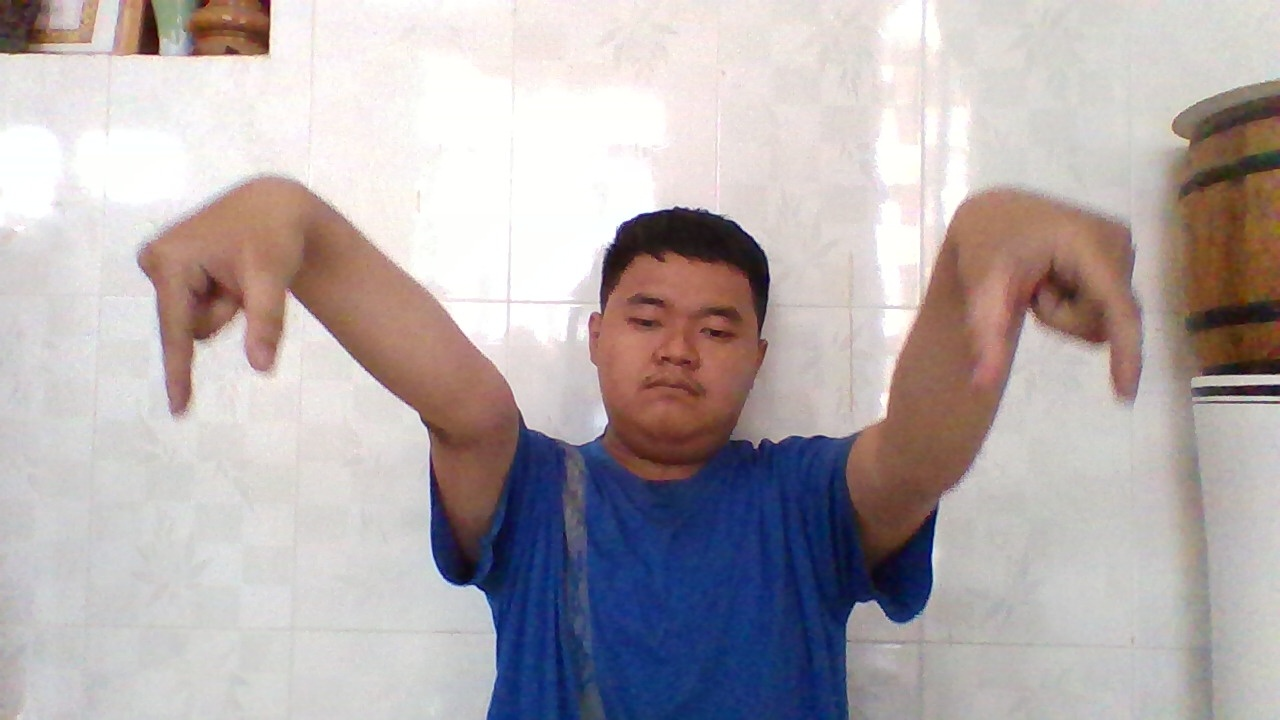Q: (959, 192, 1150, 405), (146, 176, 299, 422)
